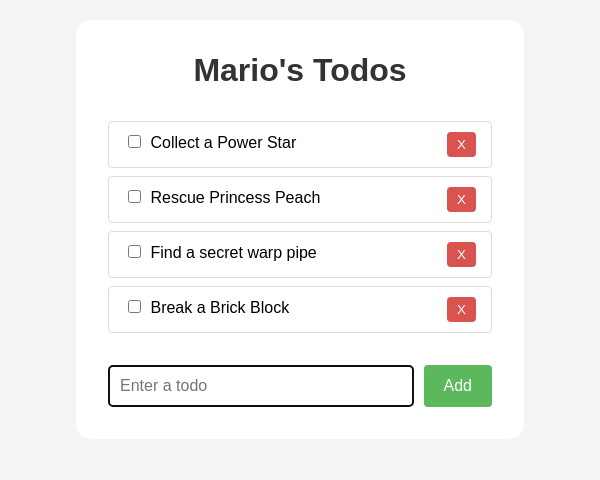
Test case: API Requests › deletes a todo
Click the button "X" next to "Break a Brick Block": x=462, y=310 x1=447 y1=297 x2=476 y2=322
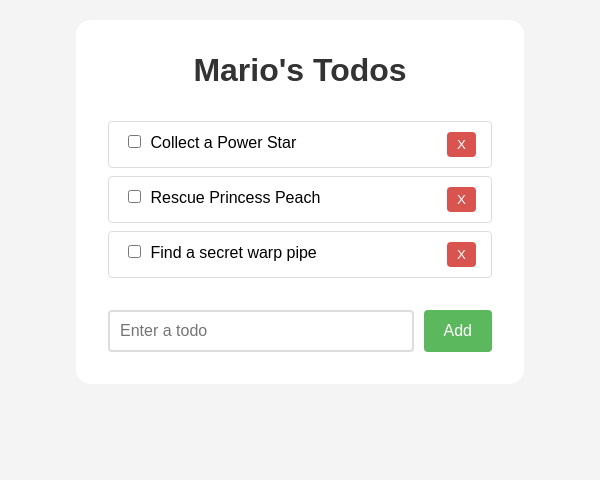
Expected: the number of list items is 3, x1=108 y1=121 x2=492 y2=168; x1=108 y1=176 x2=492 y2=223; x1=108 y1=231 x2=492 y2=278
Expected: the text "Break a Brick Block" is gone
